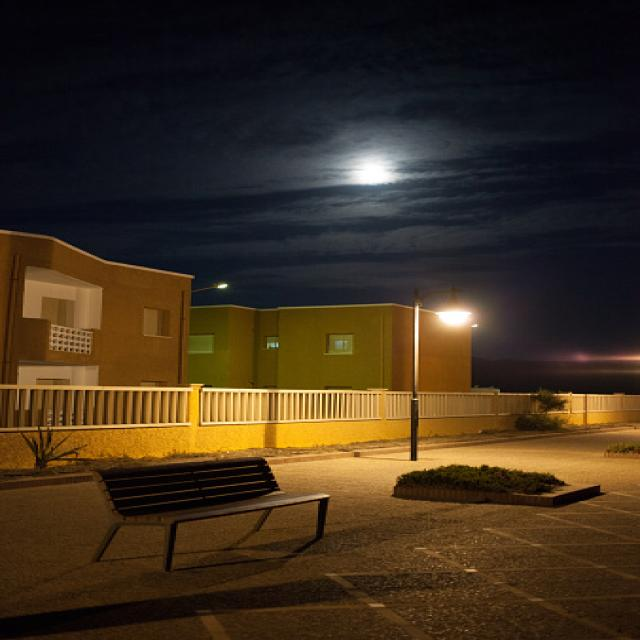chair: (68, 442, 344, 585)
